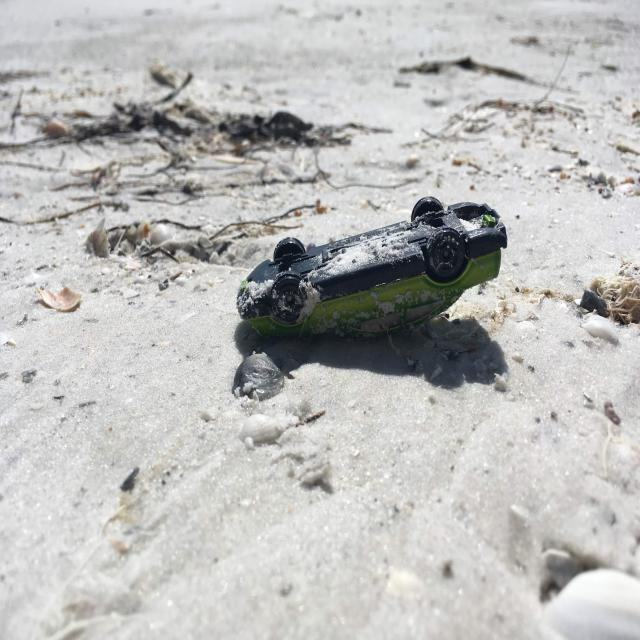litter: (231, 190, 506, 340)
